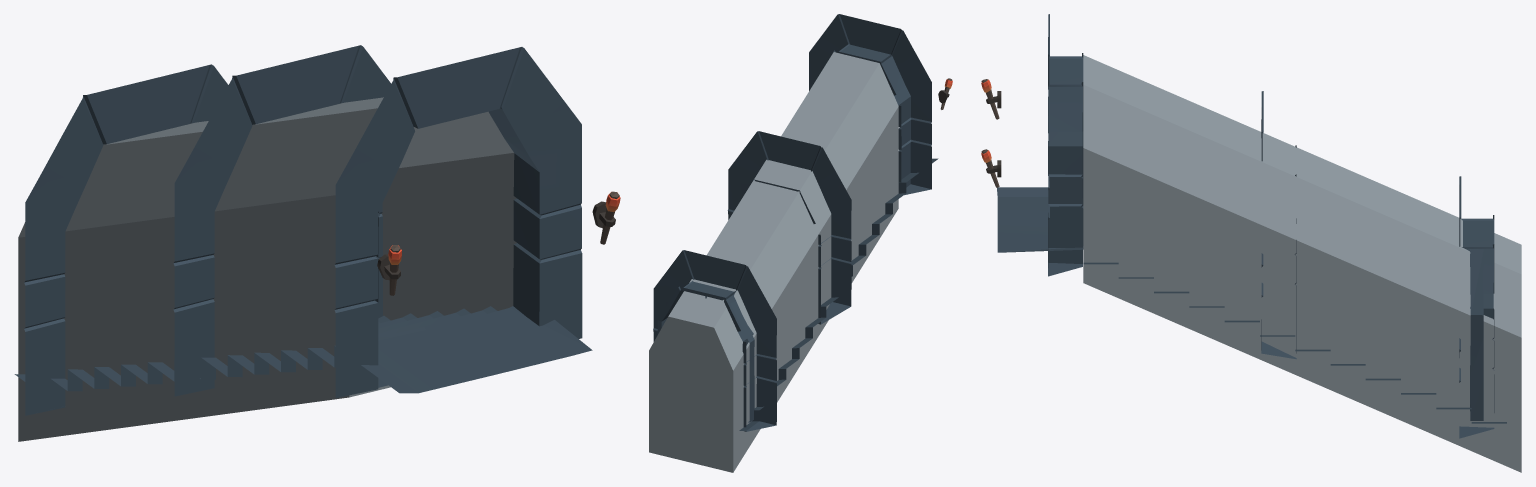
The model's file is cryptStairs.fbx.
The picture shows the model from 3 angles, left to right: view 1: azimuth 30°, elevation 25°; view 2: azimuth 150°, elevation 25°; view 3: azimuth 270°, elevation 25°; orthographic projection. The views are drawn at different scales.
Parts seen in each view (by area): view 1: cryptStairs; view 2: cryptStairs; view 3: cryptStairs.
Part boxes in pixels (left/top/right/bottom): cryptStairs: left=14, top=45, right=620, bottom=441; cryptStairs: left=649, top=14, right=952, bottom=472; cryptStairs: left=981, top=14, right=1521, bottom=472.
Bounding box in the file's own units: 4.59 × 11.06 × 13.17.
